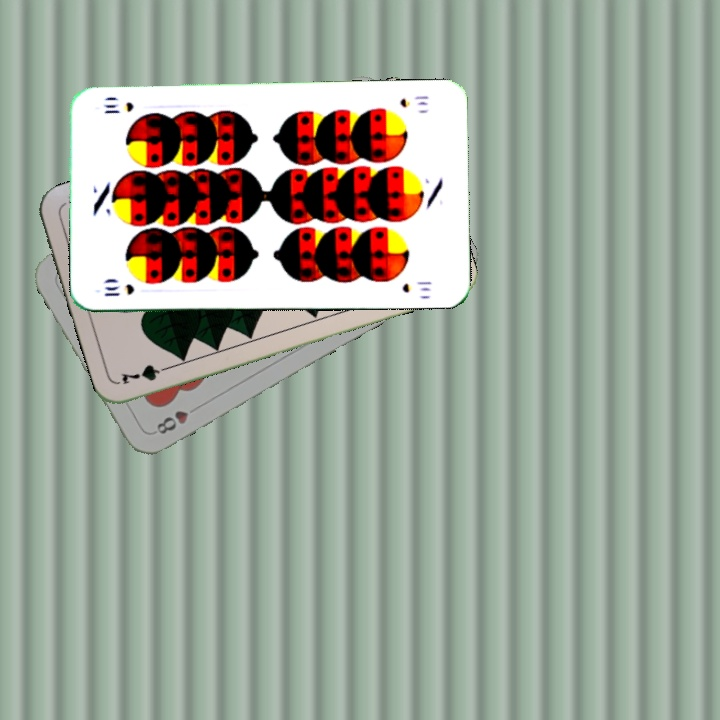G7: (117, 360, 176, 388)
H8: (150, 406, 191, 437)
S10: (100, 280, 137, 299), (396, 92, 431, 110)
